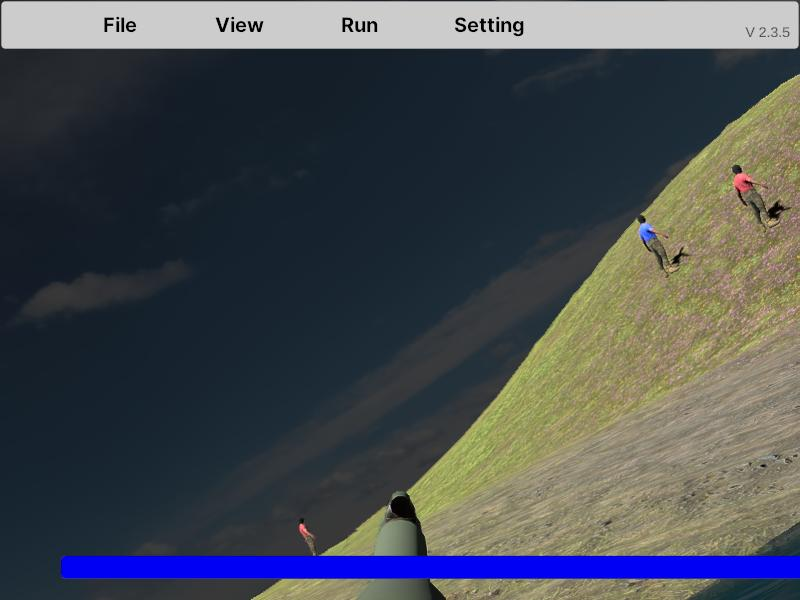Human: (732, 163, 780, 236), (637, 214, 680, 278), (638, 215, 679, 278)
